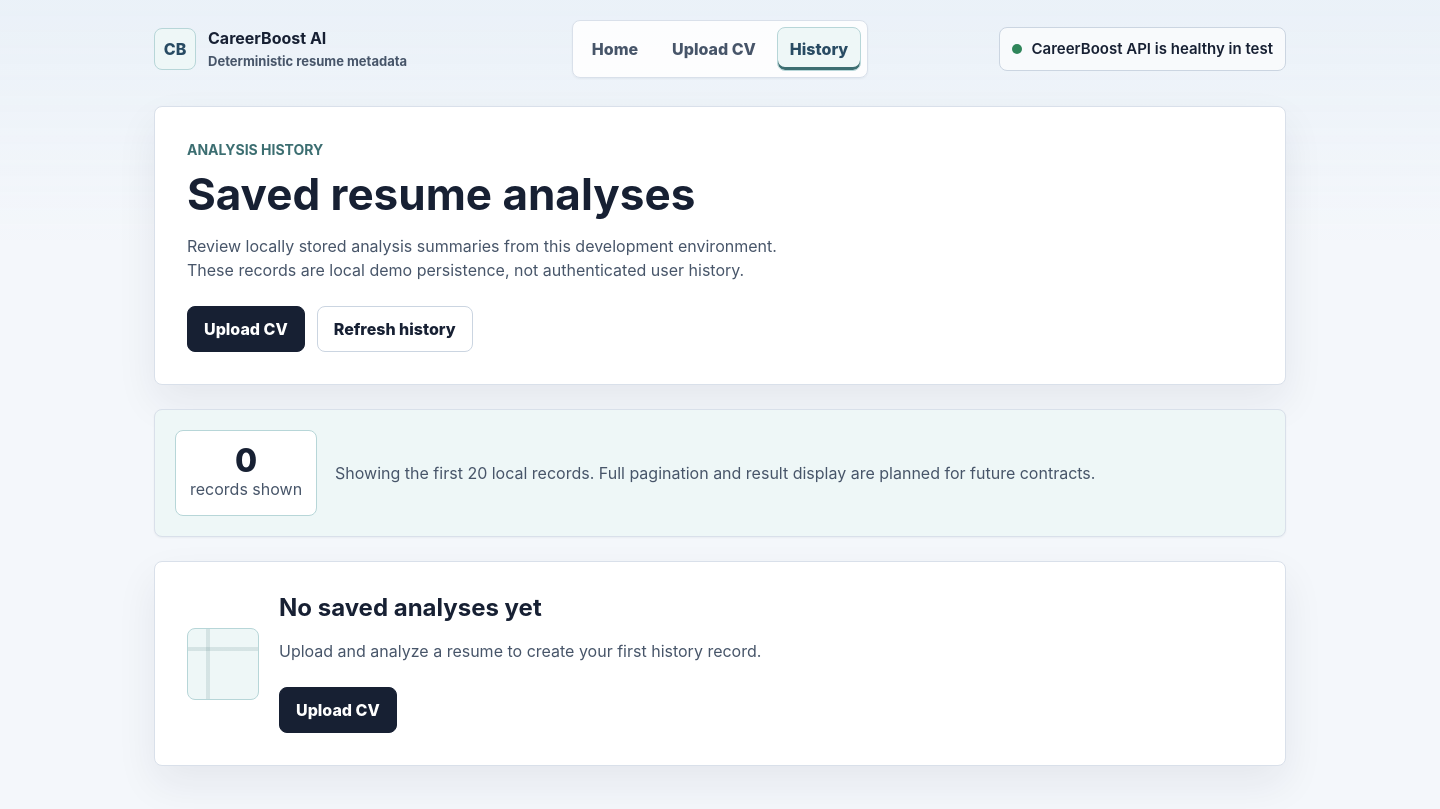
Test: App › refreshes the history list on demand
The image size is (1440, 809).
Expected: the heading "No saved analyses yet" is shown, [279,593,542,622]
Click the button "Refresh history".
click(395, 329)  # box [317,306,473,352]
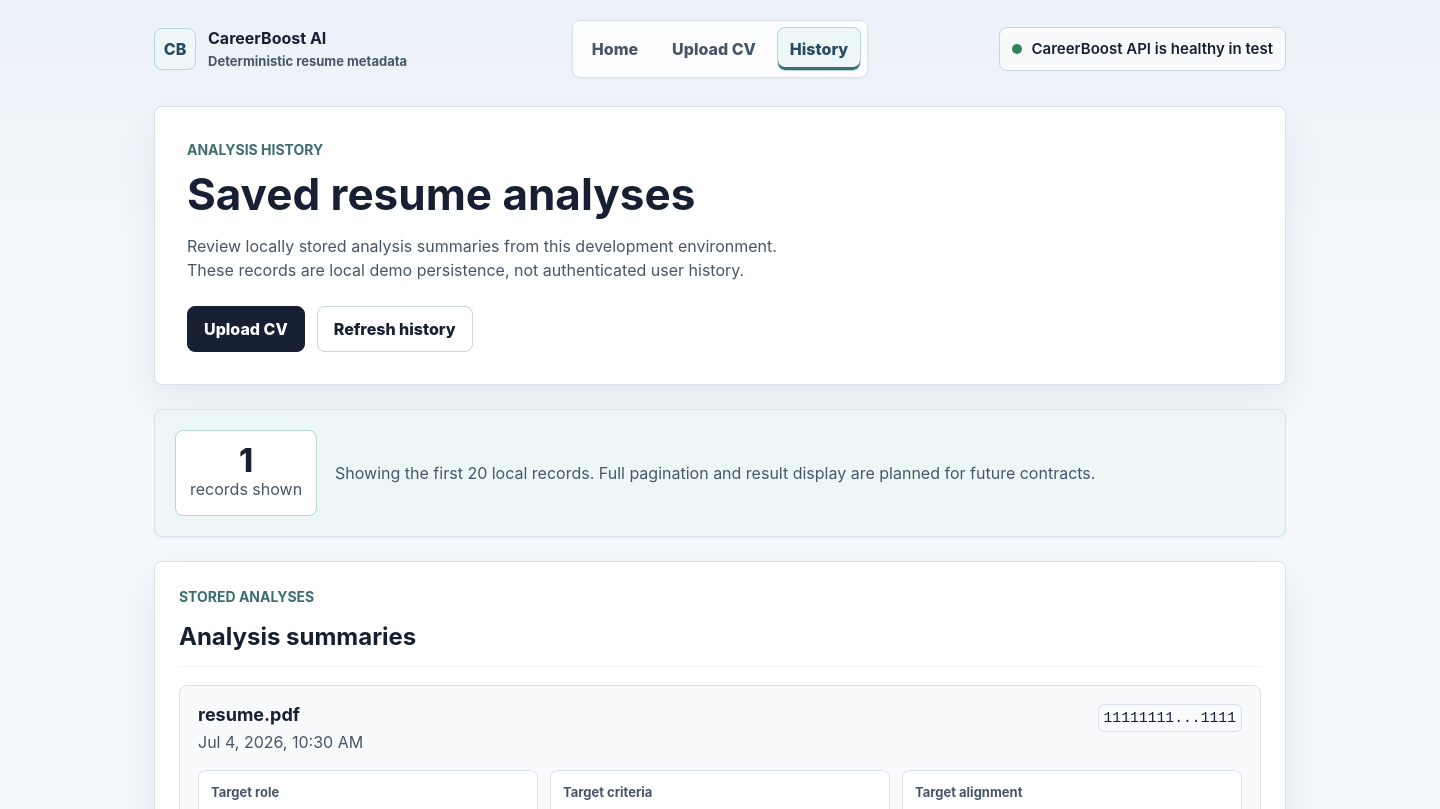
Now the heading "resume.pdf" is shown, box [198,704,300,725]
